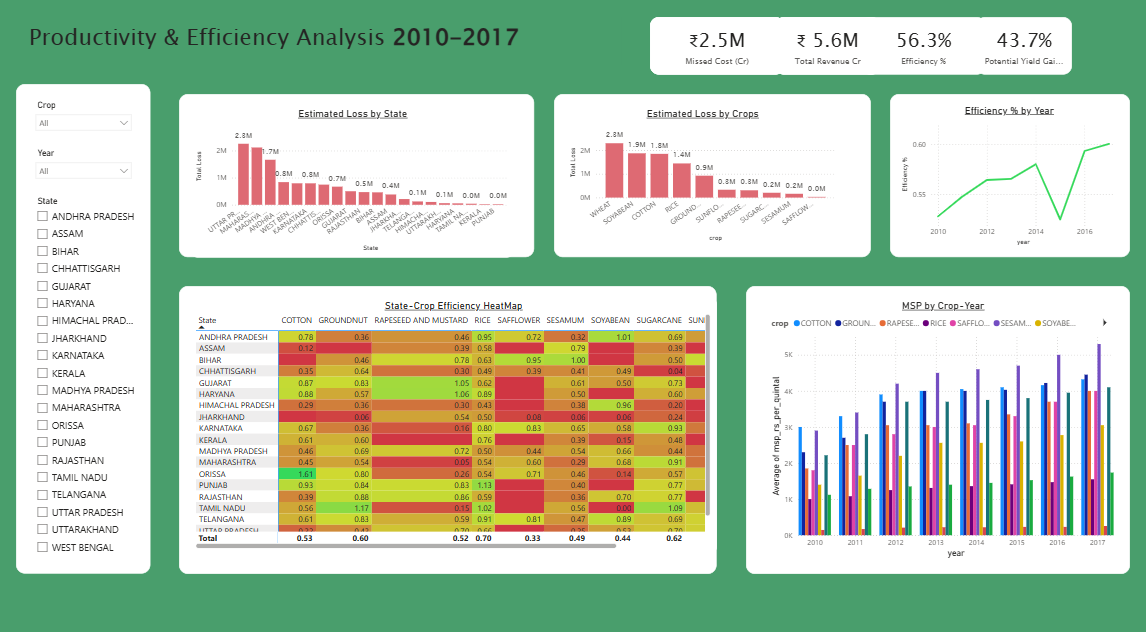

This screenshot's page, from the dashboard's own definition file:
{"tool":"powerbi","page":{"name":"Productivity& Efficiency Analysis","canvas":[1920,1080],"ordinal":1},"visuals":[{"type":"shape","box":[1488,160,400,272],"z":0},{"type":"shape","box":[304,480,896,480],"z":1000},{"type":"shape","box":[32,144,224,816],"z":2000},{"type":"shape","box":[928,160,528,272],"z":3000},{"type":"shape","box":[1248,480,640,480],"z":4000},{"type":"shape","box":[304,160,592,272],"z":5000},{"type":"card","fields":{"Values":["vw_revenue.Total Revenue Cr"]},"box":[1296,32,176,96],"z":6000},{"type":"card","fields":{"Values":["vw_loss.Efficiency"]},"box":[1440,32,208,96],"z":7000},{"type":"card","fields":{"Values":["vw_loss.Potential Yield Gain %"]},"box":[1632,32,160,96],"z":8000},{"type":"card","fields":{"Values":["vw_loss.Total Loss"]},"box":[1088,32,224,96],"z":9000},{"type":"slicer","fields":{"Values":["DimState.State"]},"box":[48,320,192,624],"z":10000},{"type":"slicer","fields":{"Values":["DimYear.Year"]},"box":[48,240,192,80],"z":11000},{"type":"slicer","fields":{"Values":["DimCrop.Crop"]},"box":[48,160,192,80],"z":12000},{"type":"columnChart","title":"Estimated Loss by State","fields":{"Category":["DimState.State"],"Y":["vw_loss.Total Loss"]},"box":[320,176,544,256],"z":13000},{"type":"clusteredColumnChart","title":"MSP by Crop-Year","fields":{"Y":["Avg(vw_revenue.msp_rs_per_quintal)"],"Series":["vw_revenue.crop"],"Category":["vw_revenue.year"]},"box":[1280,496,592,448],"z":14000},{"type":"pivotTable","title":"State-Crop Efficiency HeatMap","fields":{"Rows":["DimState.State"],"Columns":["DimCrop.Crop"],"Values":["vw_loss.Efficiency %"]},"box":[320,496,880,432],"z":15000},{"type":"columnChart","title":"Estimated Loss by Crops","fields":{"Category":["vw_loss.crop"],"Y":["vw_loss.Total Loss"]},"box":[944,176,464,240],"z":16000},{"type":"textbox","box":[48,32,992,80],"z":17000},{"type":"lineChart","title":"Efficiency % by Year","fields":{"Category":["vw_loss.year"],"Y":["vw_loss.Efficiency %"]},"box":[1504,176,368,240],"z":18000}]}

Visuals, with their boxes in screenshot pixels (x1, y1, x2, y2), scaled from the page's 1920x1080 canvas onto the 1146x632 screenshot:
shape: bbox=(888, 94, 1127, 253)
shape: bbox=(181, 281, 716, 562)
shape: bbox=(19, 84, 153, 562)
shape: bbox=(554, 94, 869, 253)
shape: bbox=(745, 281, 1127, 562)
shape: bbox=(181, 94, 535, 253)
card - vw_revenue.Total Revenue Cr: bbox=(774, 19, 879, 75)
card - vw_loss.Efficiency: bbox=(860, 19, 984, 75)
card - vw_loss.Potential Yield Gain %: bbox=(974, 19, 1070, 75)
card - vw_loss.Total Loss: bbox=(649, 19, 783, 75)
slicer - DimState.State: bbox=(29, 187, 143, 552)
slicer - DimYear.Year: bbox=(29, 140, 143, 187)
slicer - DimCrop.Crop: bbox=(29, 94, 143, 140)
"Estimated Loss by State" columnChart: bbox=(191, 103, 516, 253)
"MSP by Crop-Year" clusteredColumnChart: bbox=(764, 290, 1117, 552)
"State-Crop Efficiency HeatMap" pivotTable: bbox=(191, 290, 716, 543)
"Estimated Loss by Crops" columnChart: bbox=(563, 103, 840, 243)
textbox: bbox=(29, 19, 621, 66)
"Efficiency % by Year" lineChart: bbox=(898, 103, 1117, 243)
